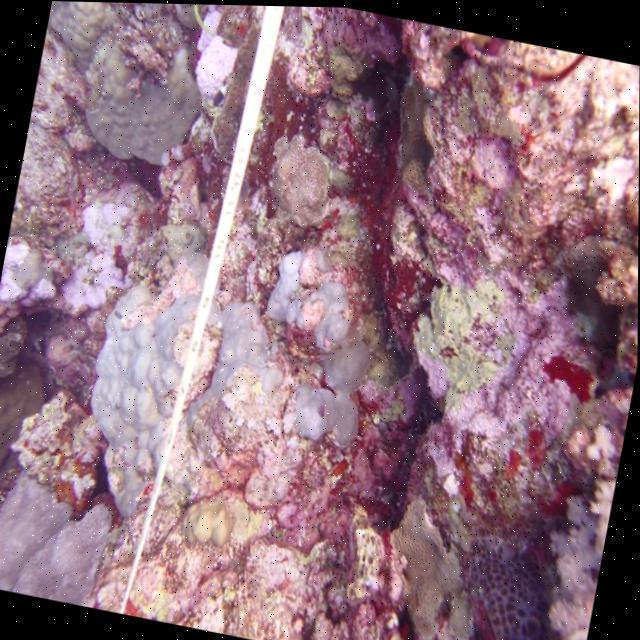Bleached Coral: (232, 227, 400, 458), (70, 276, 228, 516), (0, 157, 149, 358), (0, 427, 129, 608), (162, 2, 259, 138)
